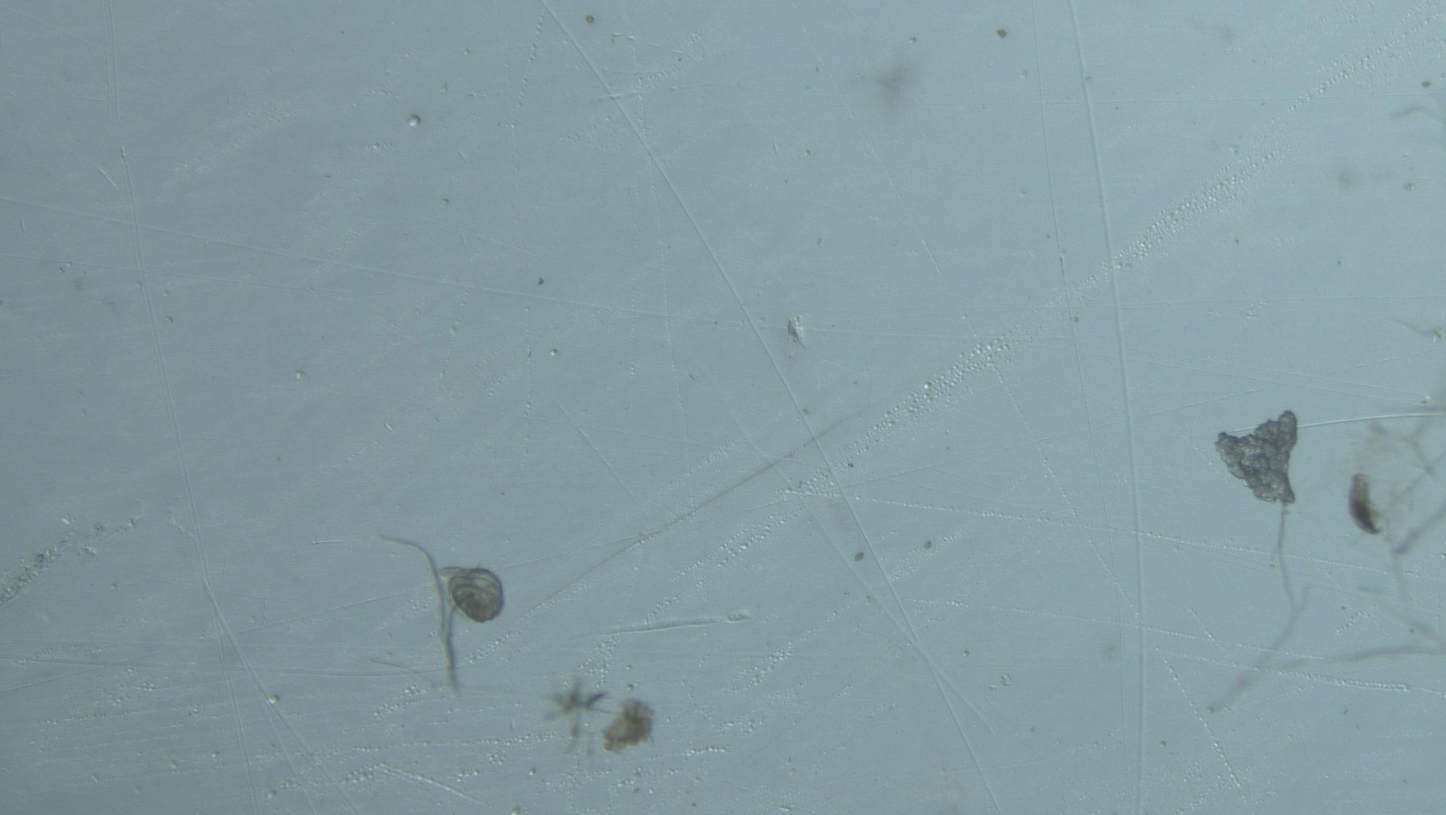live: (441, 567, 504, 623)
